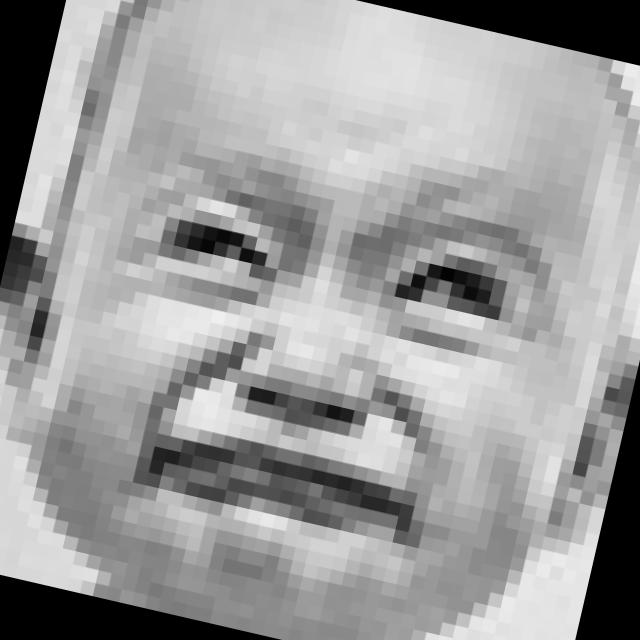sad: (49, 88, 565, 575)
